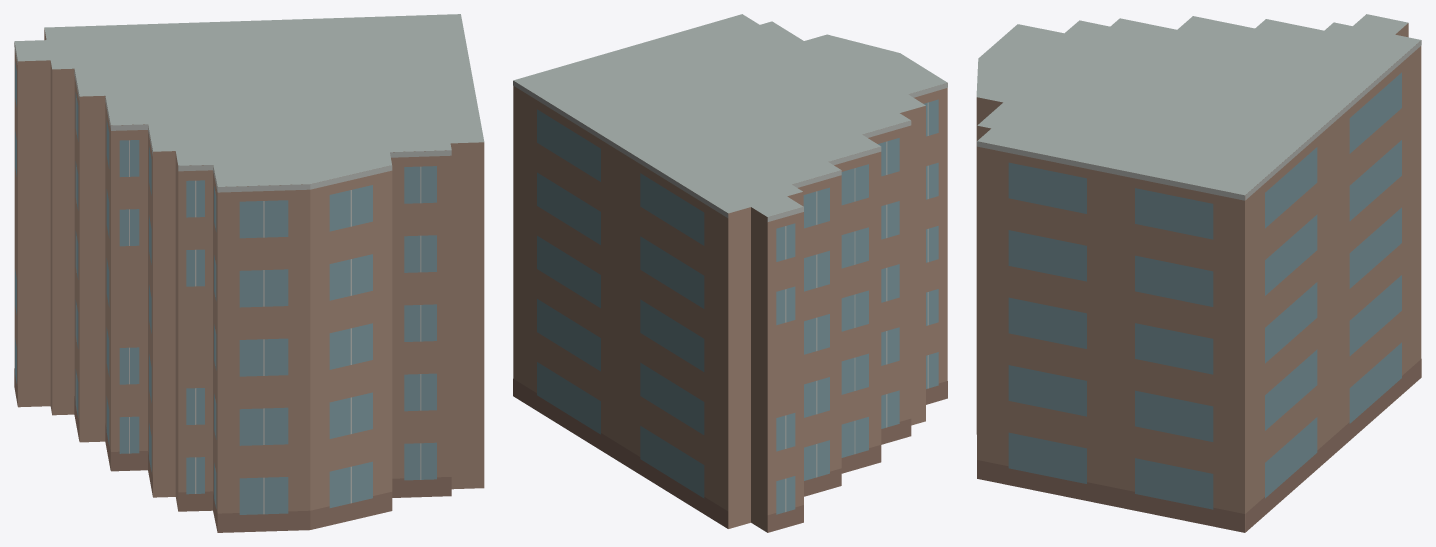
The model's file is survey-upis-32638591.glb.
The picture shows the model from 3 angles, left to right: view 1: azimuth 30°, elevation 25°; view 2: azimuth 150°, elevation 25°; view 3: azimuth 270°, elevation 25°; orthographic projection. The views are drawn at different scales.
Parts seen in each view (by area): view 1: survey-upis-32638591.tmp; view 2: survey-upis-32638591.tmp; view 3: survey-upis-32638591.tmp.
Boxes of the visible parts, x1,y1,x2,y2 form: survey-upis-32638591.tmp: (14, 14, 484, 532); survey-upis-32638591.tmp: (513, 14, 947, 532); survey-upis-32638591.tmp: (976, 14, 1421, 532).
Size of the model in its own units: 17.58 by 15.25 by 18.23.
